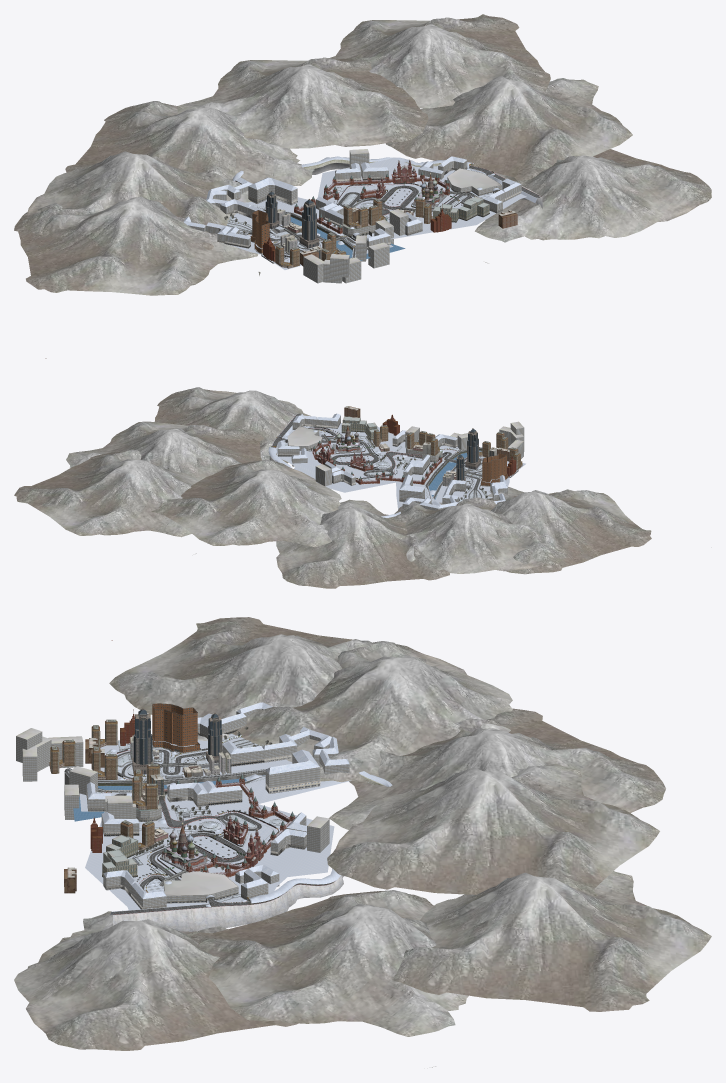
The model's file is moscow.glb.
3 renders of one model, top to bottom at view 1: azimuth 30°, elevation 25°; view 2: azimuth 150°, elevation 25°; view 3: azimuth 270°, elevation 25°, orthographic. The views are drawn at different scales.
Visible parts, largest first — view 1: mesh; view 2: mesh; view 3: mesh.
Part boxes in pixels (x1=…): mesh: x1=14, y1=14, x2=711, y2=358; mesh: x1=14, y1=387, x2=711, y2=588; mesh: x1=14, y1=617, x2=711, y2=1067.
Size of what is drawn, in the model's own units: 3114 by 484 by 2092.
Materials: 46 (46 with a texture image).
